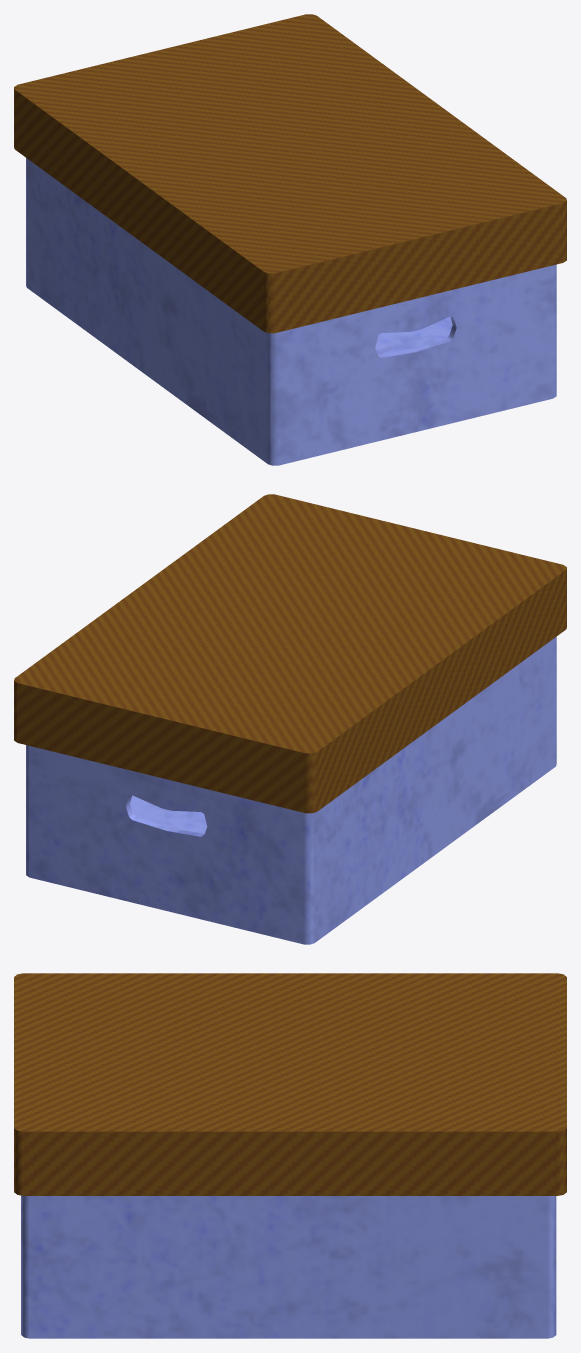
Rendered from Crate.fbx.
The picture shows the model from 3 angles, top to bottom: view 1: azimuth 30°, elevation 25°; view 2: azimuth 150°, elevation 25°; view 3: azimuth 270°, elevation 25°; orthographic projection. The views are drawn at different scales.
Parts seen in each view (by area): view 1: crate_top, crate_bottom; view 2: crate_top, crate_bottom; view 3: crate_top, crate_bottom.
Part boxes in pixels (x1,y1,x2,y2): crate_top: (14, 14, 566, 333); crate_bottom: (26, 158, 556, 465); crate_top: (14, 494, 566, 813); crate_bottom: (26, 637, 556, 944); crate_top: (14, 973, 566, 1195); crate_bottom: (21, 1195, 556, 1338).
Size of the model in its own units: 0.42 by 0.2607 by 0.62.
